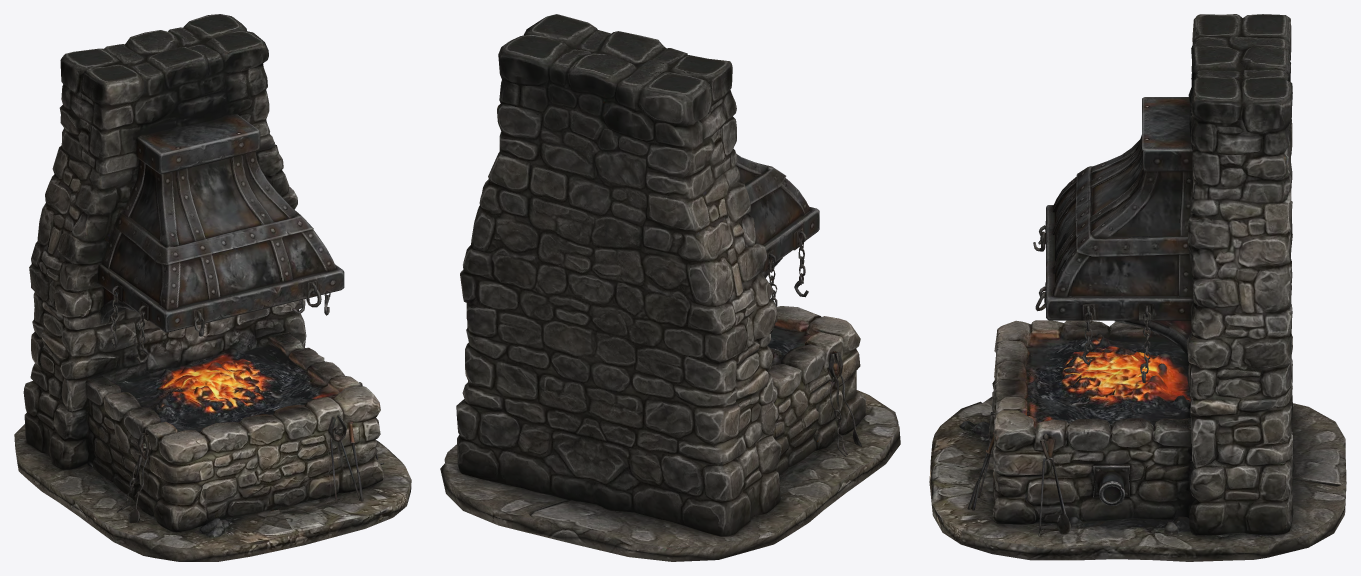
Rendered from forge_hearth.glb.
3 renders of one model, left to right at view 1: azimuth 30°, elevation 25°; view 2: azimuth 150°, elevation 25°; view 3: azimuth 270°, elevation 25°, orthographic. The views are drawn at different scales.
Bounding box in the file's own units: 0.7398 × 0.9517 × 0.835.
Materials: 1 (1 with a texture image).
